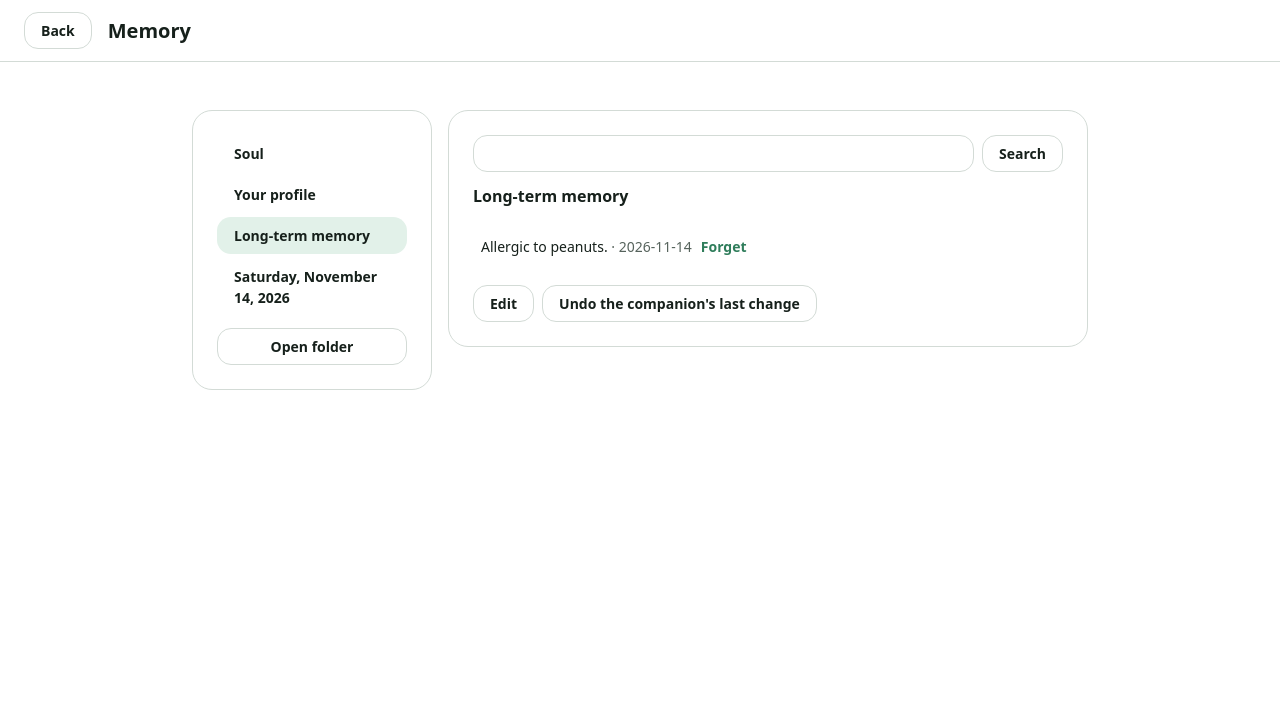
Scenario: MemoryView › asks to reload or keep the user's version when the file changed
Click the button "Edit".
click(504, 304)  # box left=473, top=285, right=534, bottom=322
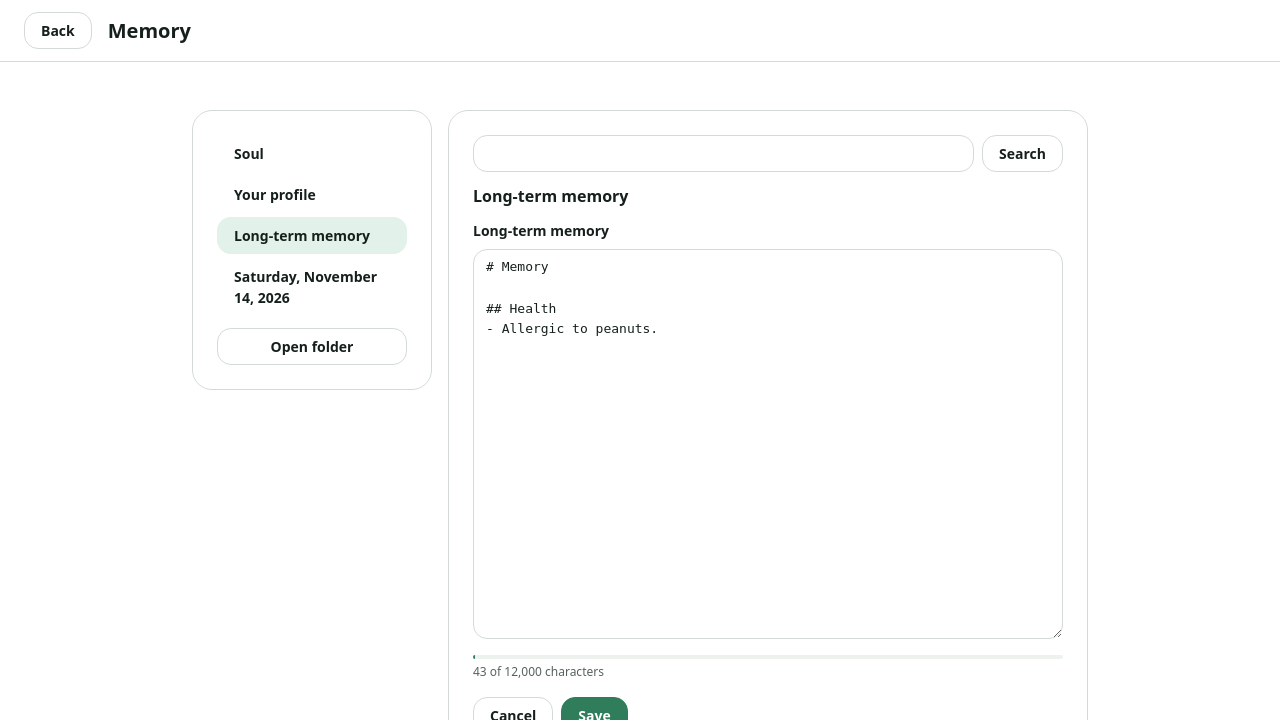
Type "- Likes tea." into the text box labelled "Long-term memory".
click(768, 444); type("- Likes tea.")  # box left=473, top=249, right=1063, bottom=639
(page scrolled)
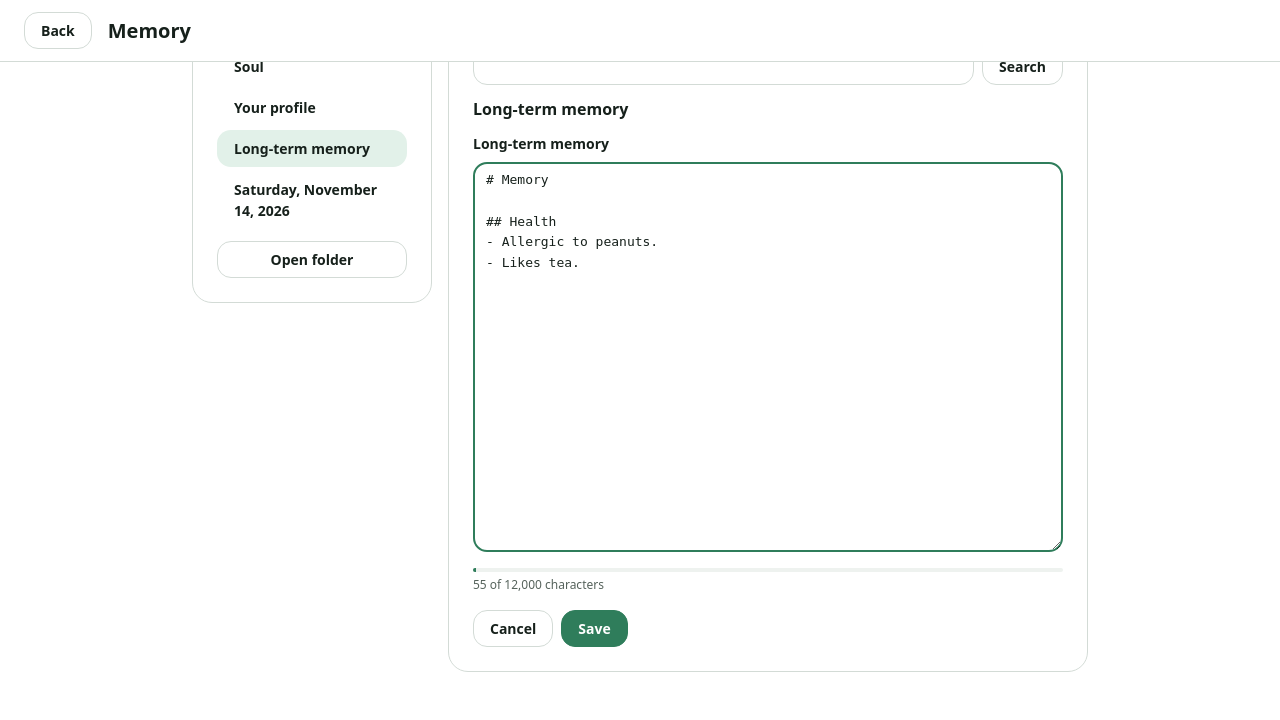
Click the button "Save".
click(594, 629)  # box left=561, top=610, right=628, bottom=647
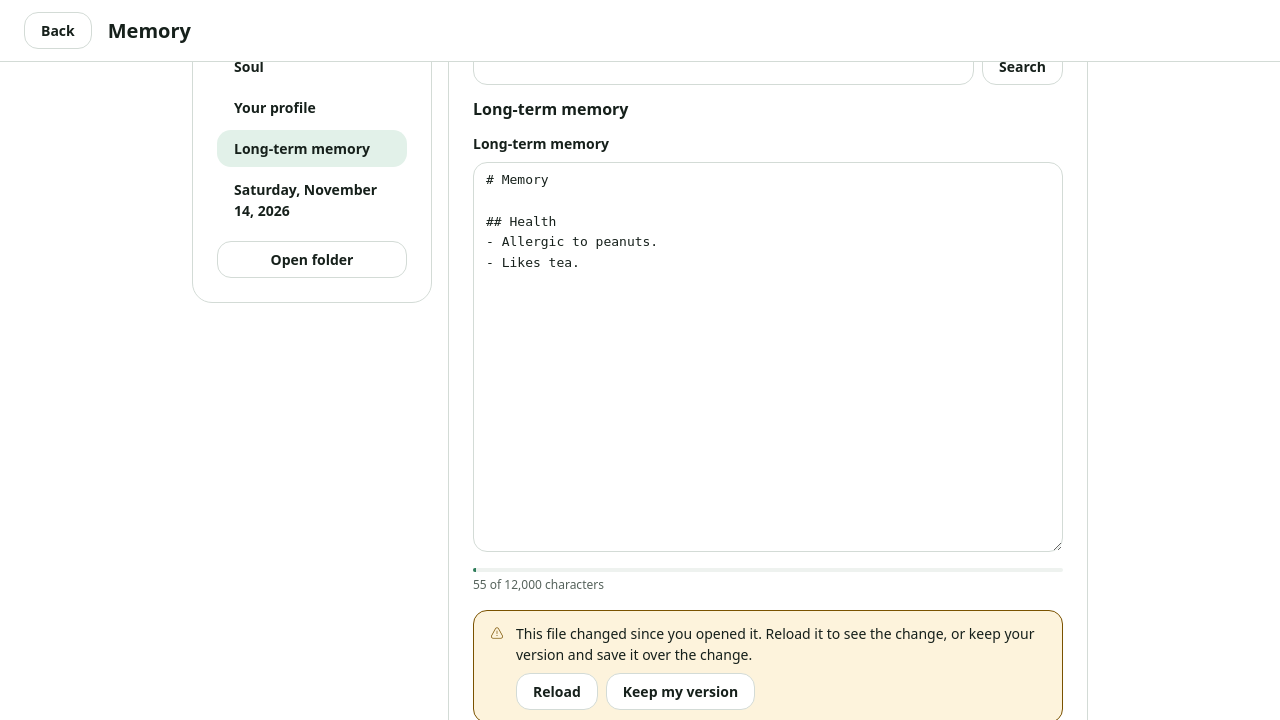
Check: the 2nd message shows "changed since you opened it", box left=516, top=624, right=1034, bottom=664
Click the button "Keep my version".
click(680, 692)  # box left=606, top=673, right=755, bottom=710
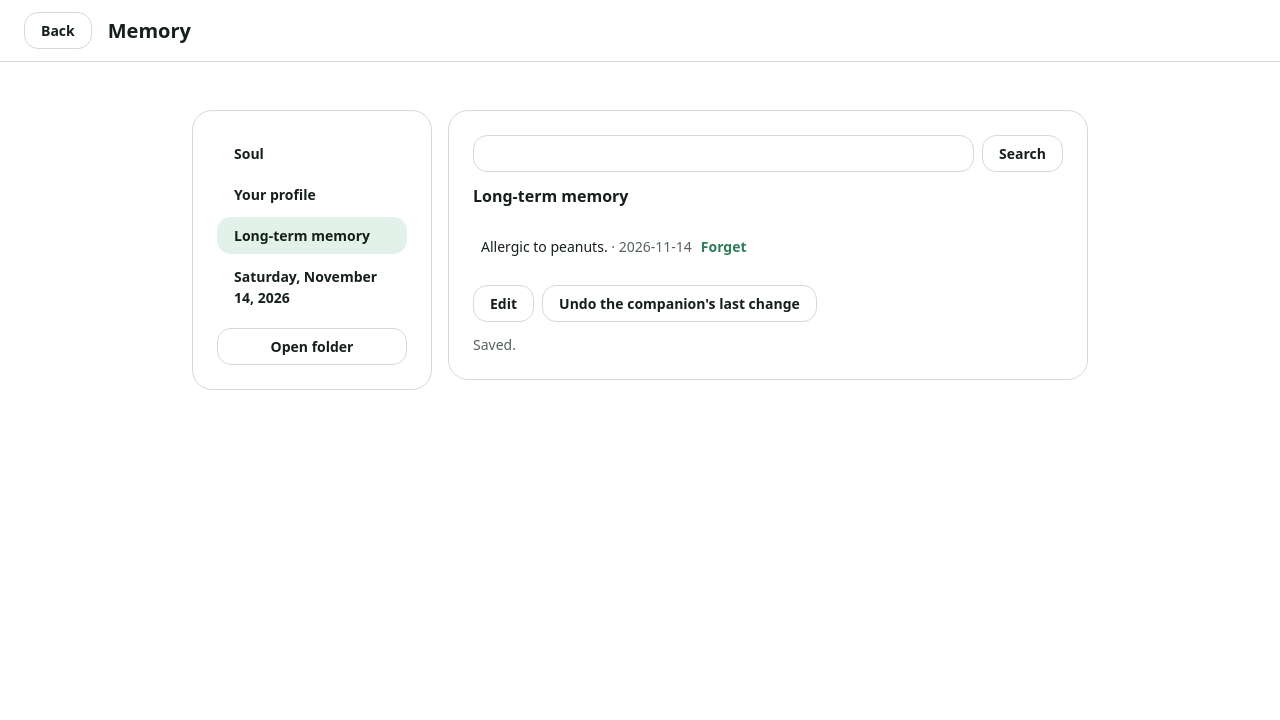
Check: the message reads "Saved.", box left=473, top=335, right=516, bottom=354
